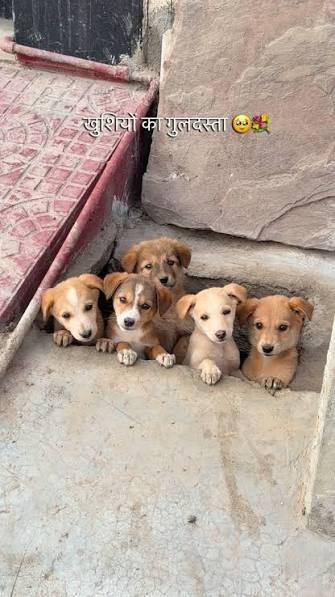puppy-dog: (171, 283, 247, 386), (103, 271, 177, 370), (241, 295, 314, 394), (120, 238, 193, 336), (41, 275, 113, 355)
